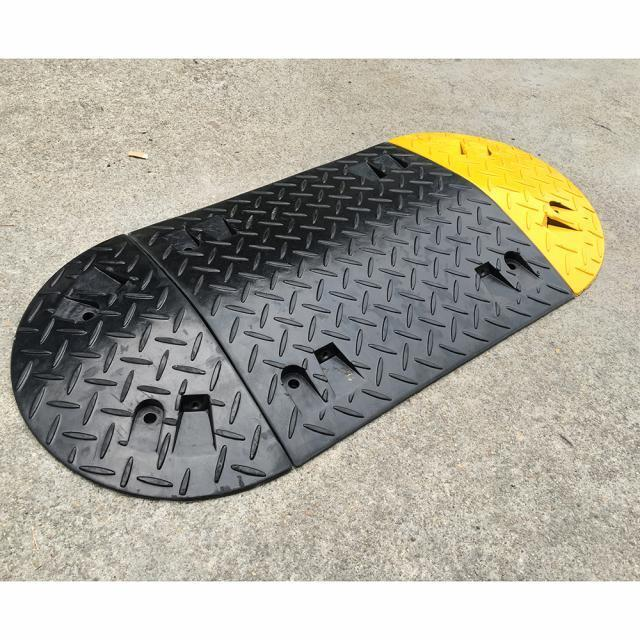Marked Bump: (50, 113, 545, 467)
